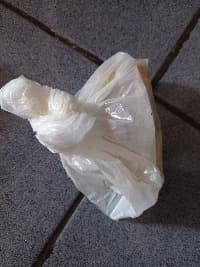Plastik: (1, 52, 164, 220)
